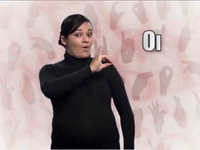oi: (91, 47, 113, 73)
